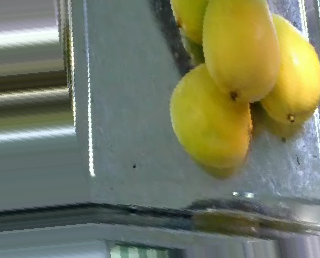Mango: (170, 62, 252, 167), (202, 2, 278, 105), (250, 11, 319, 124), (171, 1, 218, 45)
